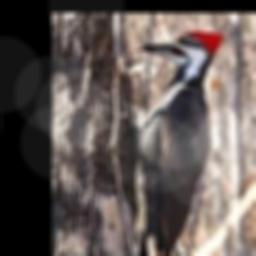Woodpecker: (131, 32, 223, 256)
